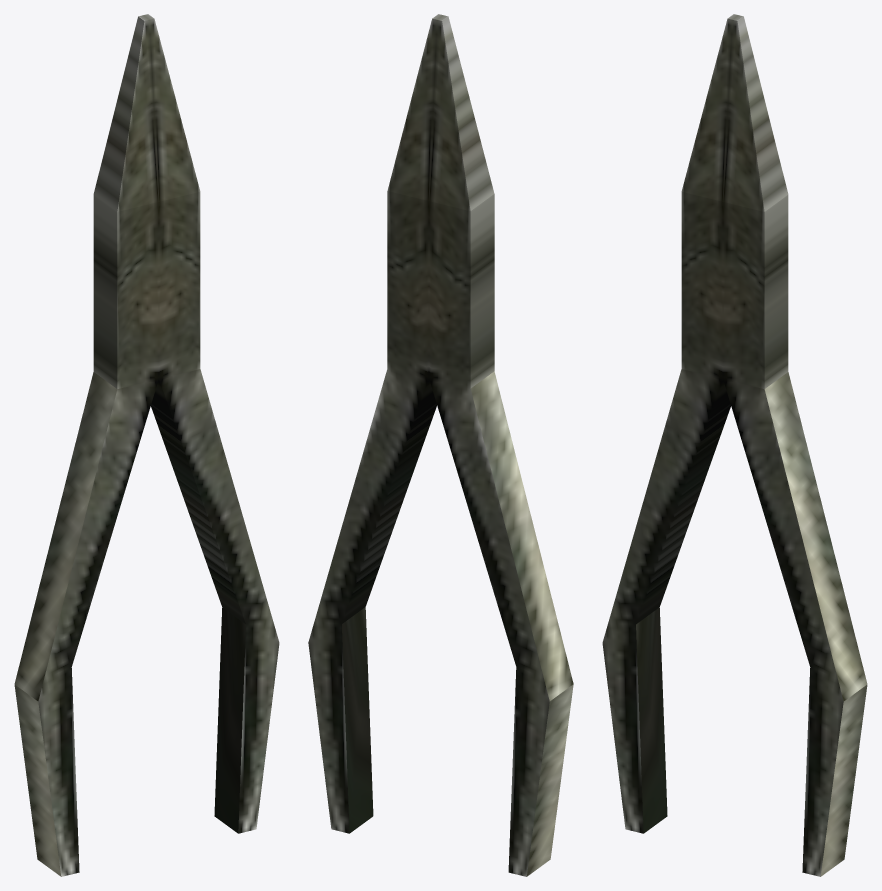
File: NeedleNosePlires.obj
3 views of the same model, side by side, from view 1: azimuth 30°, elevation 25°; view 2: azimuth 150°, elevation 25°; view 3: azimuth 330°, elevation 25° (orthographic).
Visible parts, largest first — view 1: Plires; view 2: Plires; view 3: Plires.
Boxes of the visible parts, <box> form: Plires: <box>14,14,279,876</box>; Plires: <box>308,14,573,876</box>; Plires: <box>602,14,867,876</box>.
Size of the model in its own units: 0.7152 by 2.34 by 0.1225.
1 material, 1 textured.
